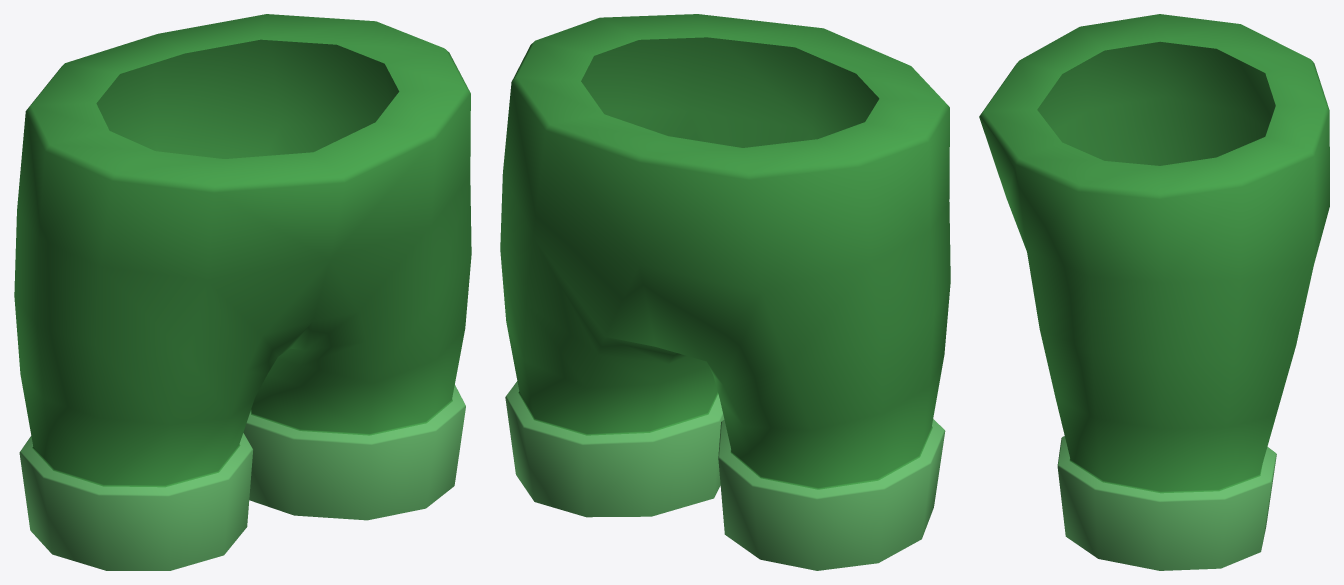
File: Pants_Green_001.glb
3 renders of one model, left to right at view 1: azimuth 30°, elevation 25°; view 2: azimuth 150°, elevation 25°; view 3: azimuth 270°, elevation 25°, orthographic. The views are drawn at different scales.
Parts seen in each view (by area): view 1: Pants_Green_001; view 2: Pants_Green_001; view 3: Pants_Green_001.
Part boxes in pixels (x1,y1,x2,y2): Pants_Green_001: (14,14,471,570); Pants_Green_001: (500,14,950,570); Pants_Green_001: (979,14,1329,570).
Size of the model in its own units: 0.4529 by 0.4315 by 0.3561.
Materials: 1 (1 with a texture image).
